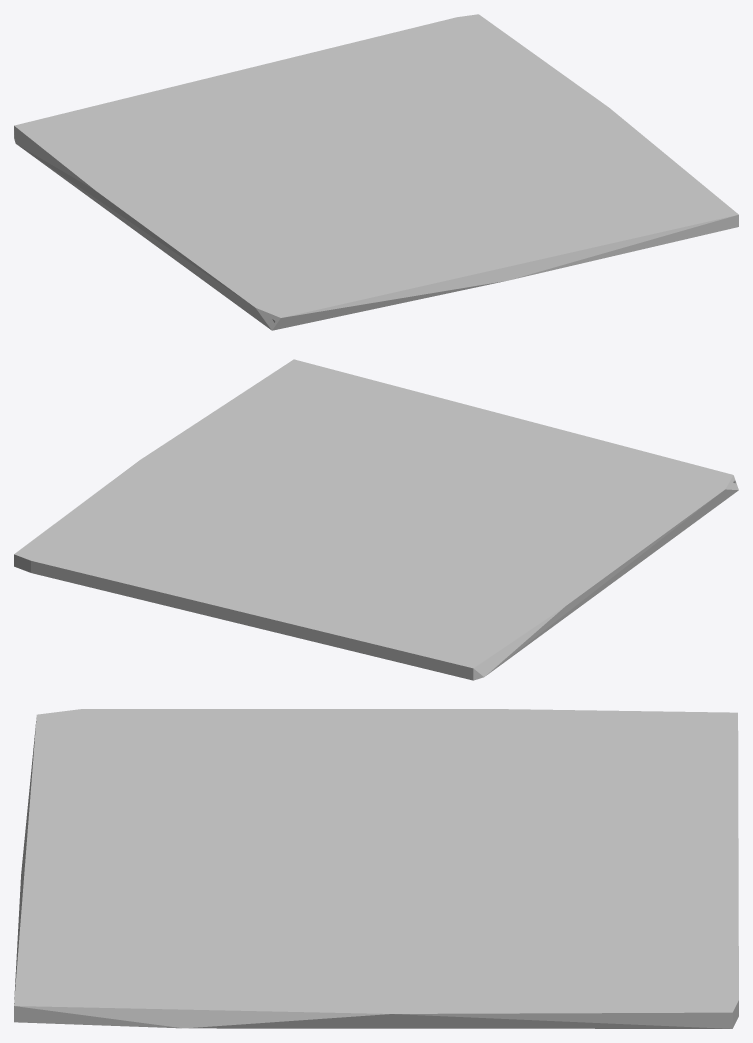
Rendered from SM_Prop_Rug_02.fbx.
The picture shows the model from 3 angles, top to bottom: view 1: azimuth 30°, elevation 25°; view 2: azimuth 150°, elevation 25°; view 3: azimuth 270°, elevation 25°; orthographic projection. The views are drawn at different scales.
Visible parts, largest first — view 1: SM_Prop_Rug_02_ConvexHulls; view 2: SM_Prop_Rug_02_ConvexHulls; view 3: SM_Prop_Rug_02_ConvexHulls.
Boxes of the visible parts, x1,y1,x2,y2 form: SM_Prop_Rug_02_ConvexHulls: (14,14,738,330); SM_Prop_Rug_02_ConvexHulls: (14,359,738,680); SM_Prop_Rug_02_ConvexHulls: (14,709,738,1028).
Bounding box in the file's own units: 234 × 235 × 5.83.
2 materials, 1 textured.
